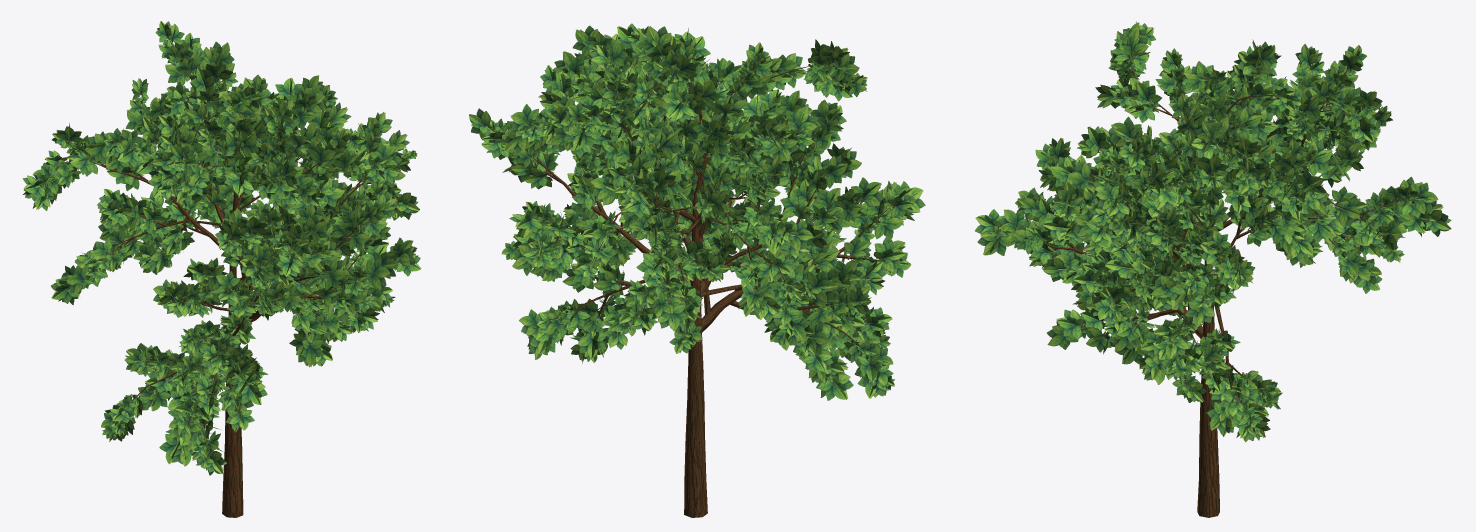
File: oak42.glb
The picture shows the model from 3 angles, left to right: view 1: azimuth 30°, elevation 25°; view 2: azimuth 150°, elevation 25°; view 3: azimuth 270°, elevation 25°; orthographic projection. The views are drawn at different scales.
Parts seen in each view (by area): view 1: leaves, branches; view 2: leaves, branches; view 3: leaves, branches.
Boxes of the visible parts, bbox=[...] form: leaves: bbox=[22, 21, 421, 475]; branches: bbox=[50, 71, 371, 517]; leaves: bbox=[469, 23, 925, 400]; branches: bbox=[494, 65, 891, 517]; leaves: bbox=[975, 21, 1451, 442]; branches: bbox=[1003, 62, 1399, 517].
Size of the model in its own units: 18.87 by 23.03 by 21.34.
Materials: 2 (2 with a texture image).
